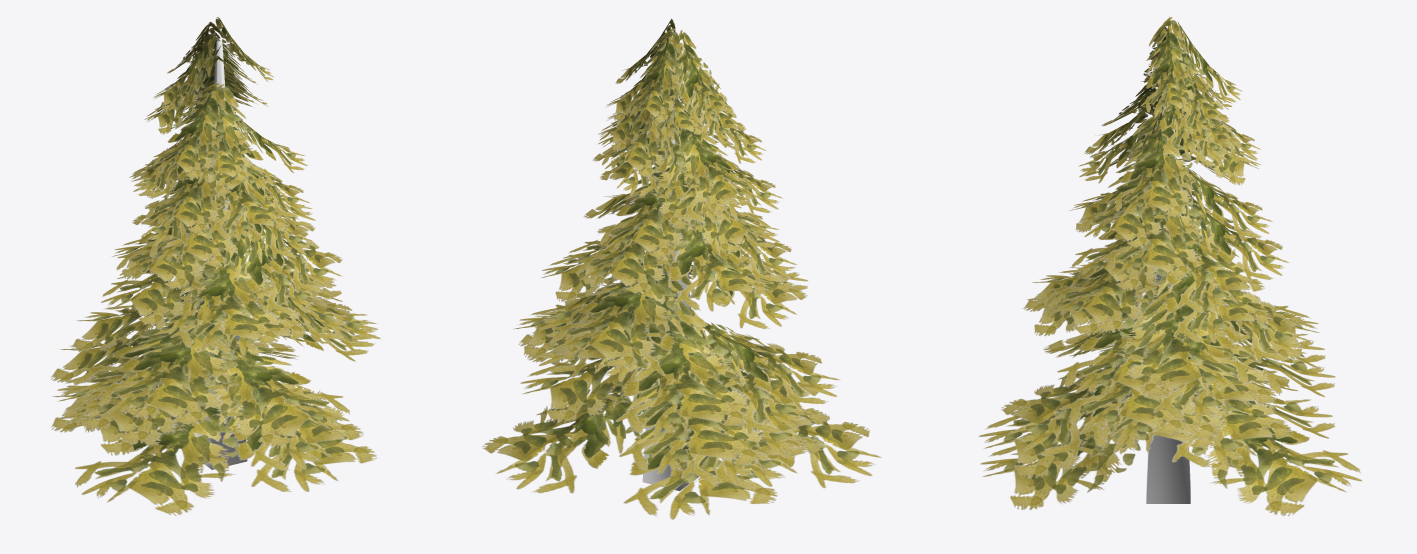
File: SAPIN.glb
3 views of the same model, side by side, from view 1: azimuth 30°, elevation 25°; view 2: azimuth 150°, elevation 25°; view 3: azimuth 270°, elevation 25° (orthographic). The views are drawn at different scales.
Parts seen in each view (by area): view 1: Plane.002, Cube.colonly; view 2: Plane.002, Cube.colonly; view 3: Plane.002, Cube.colonly.
Boxes of the visible parts, left/top/right/bottom form: Plane.002: left=50, top=17, right=380, bottom=515; Cube.colonly: left=194, top=40, right=247, bottom=469; Plane.002: left=482, top=18, right=881, bottom=519; Cube.colonly: left=642, top=42, right=699, bottom=490; Plane.002: left=979, top=16, right=1362, bottom=516; Cube.colonly: left=1146, top=42, right=1190, bottom=503.
Bounding box in the file's own units: 6.48 × 7.61 × 6.57.
Materials: 1 (1 with a texture image).
